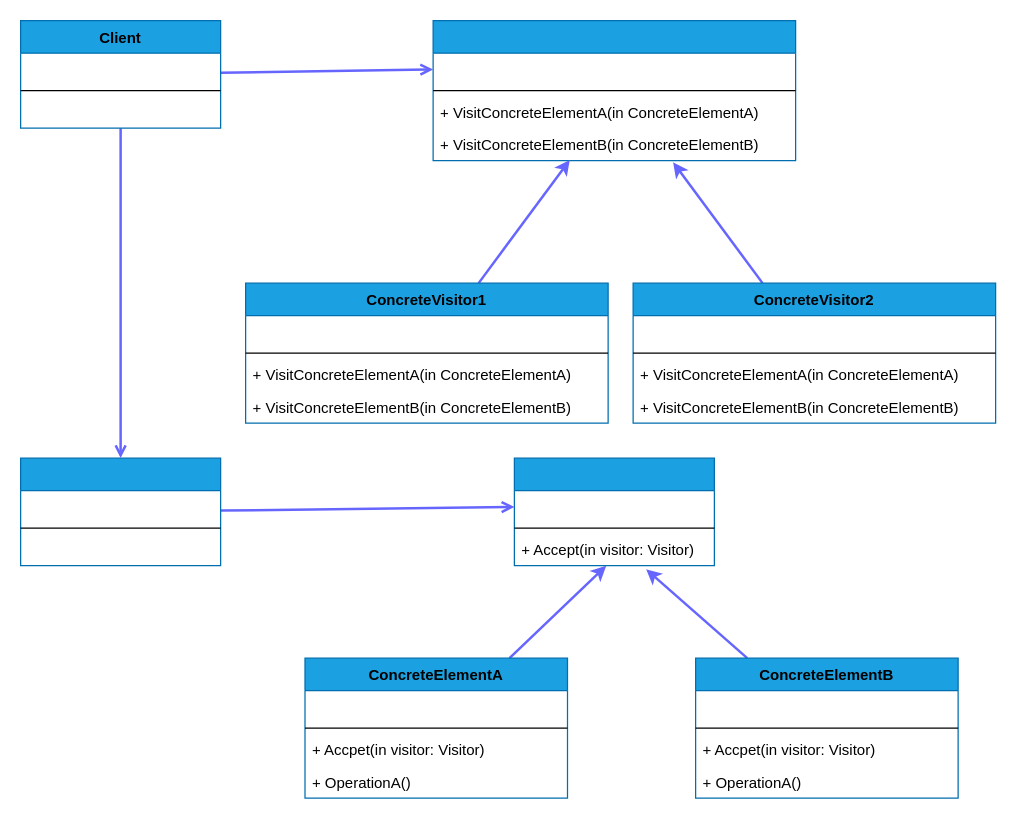
Image size: 1016x819. Some labels were removed from this diagram. Here are the shapes that lost their labels. From the top down, the box of each, then its label:
(432, 19, 796, 161): Visitor
(19, 457, 221, 566): ObjectStruture
(513, 457, 714, 566): Element
